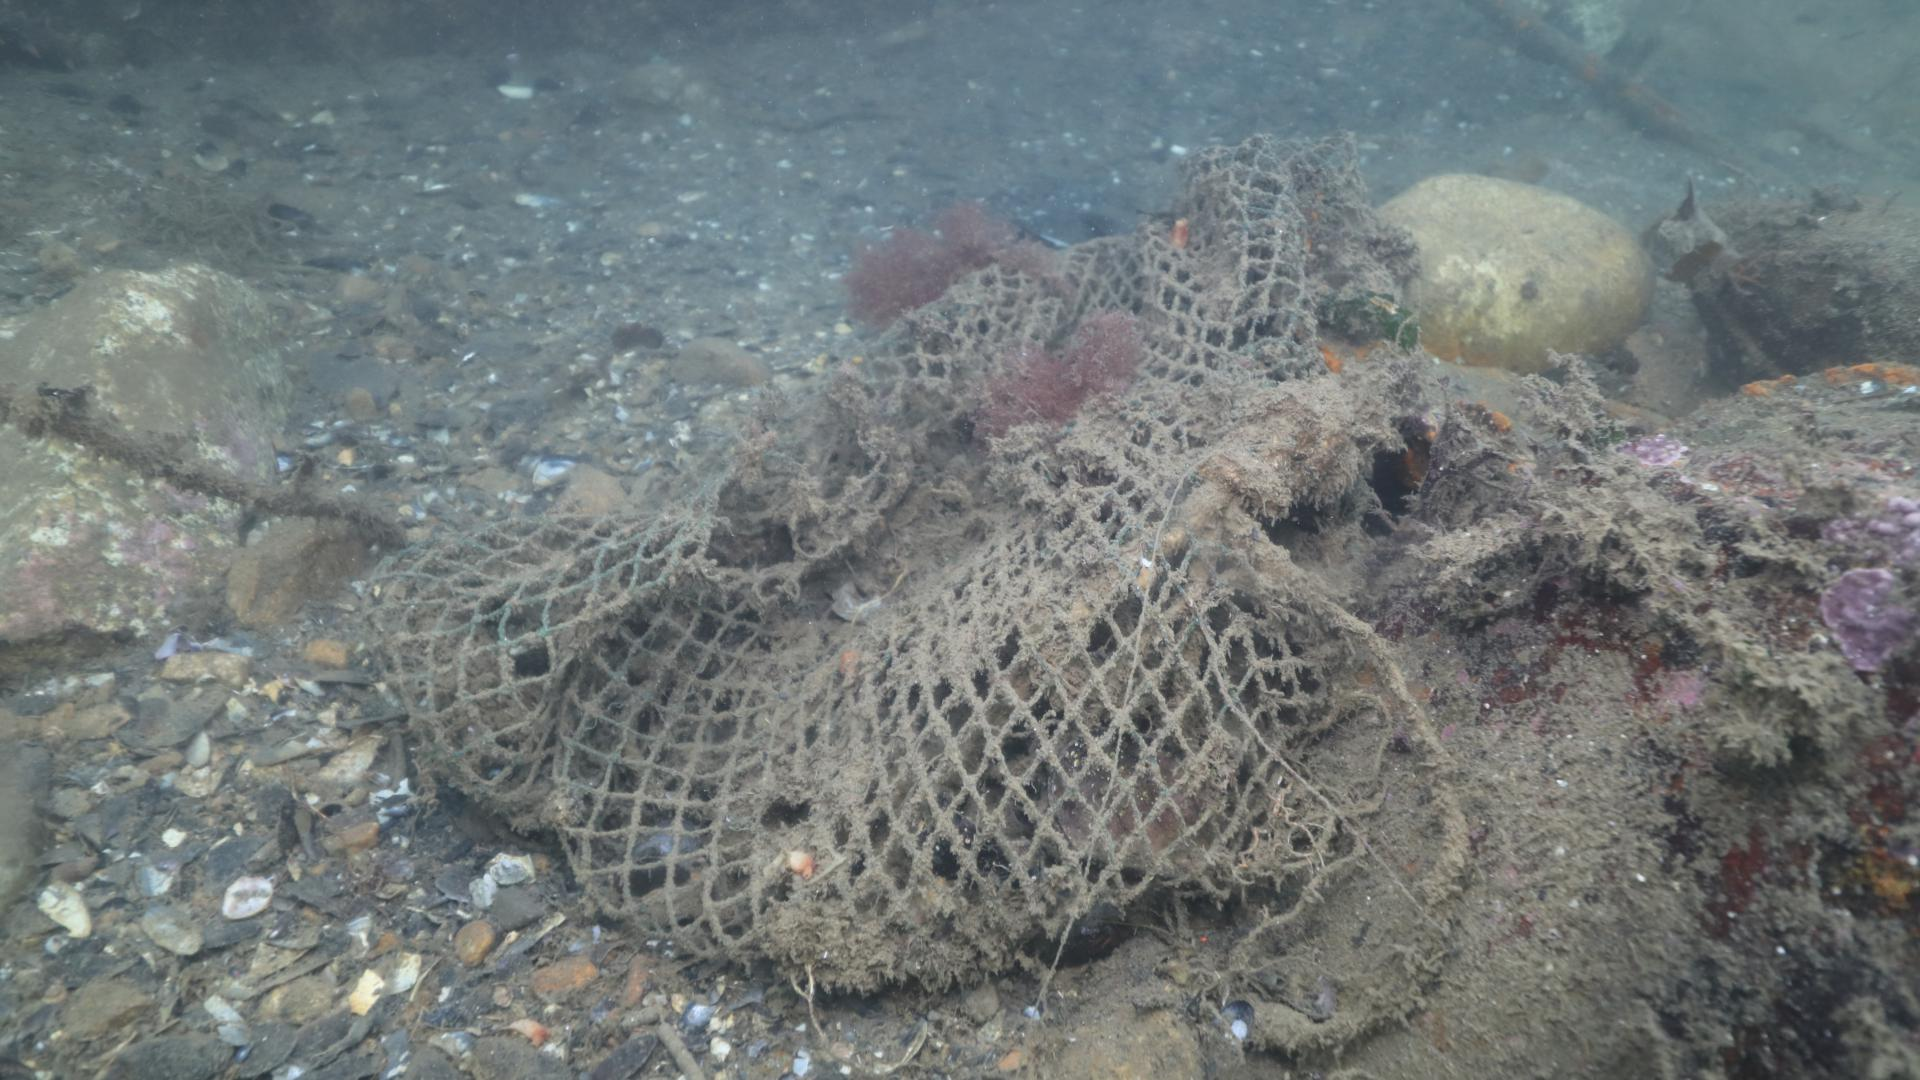fish net: (353, 127, 1381, 961)
